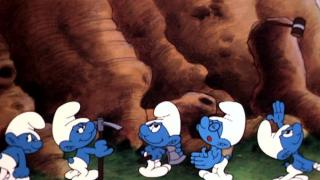smurf: (255, 97, 318, 180), (52, 100, 111, 180), (191, 97, 246, 178), (137, 99, 185, 177), (1, 106, 43, 179)
